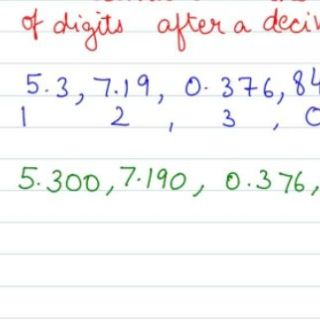.: (113, 89, 118, 94)
0: (184, 74, 201, 97)
1: (19, 101, 31, 129), (122, 77, 131, 98)
2: (110, 103, 131, 127)
3: (53, 72, 70, 98), (219, 73, 235, 98), (221, 107, 237, 127)
5: (24, 70, 42, 95)
6: (262, 75, 275, 98)
7: (237, 73, 259, 98), (90, 72, 111, 98)
8: (291, 69, 306, 95)
9: (136, 71, 151, 96)
